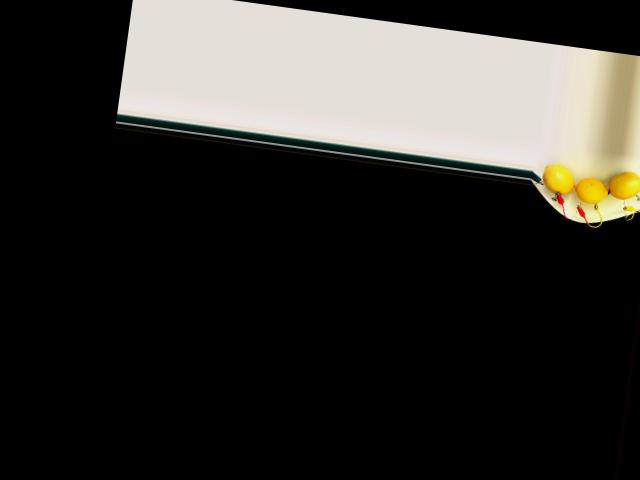lemon: (540, 165, 576, 201)
